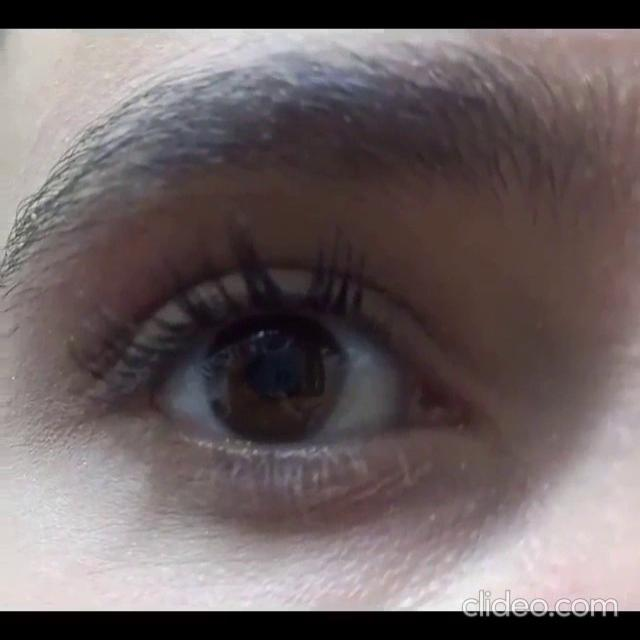iris: (202, 316, 347, 443)
pupille: (248, 349, 304, 402)
